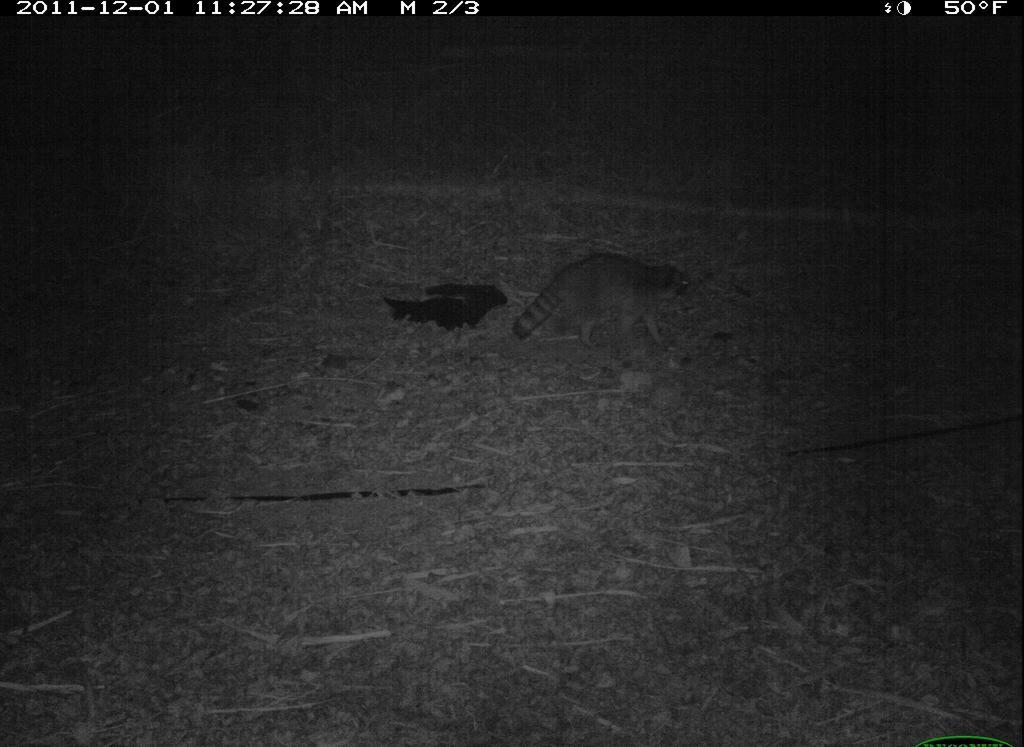raccoon: (500, 240, 703, 370)
